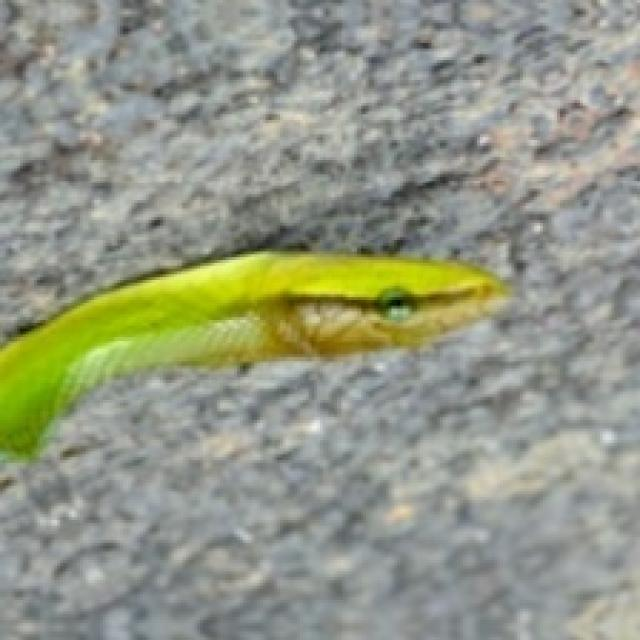red-tailed green ratsnake: (0, 251, 509, 457)
